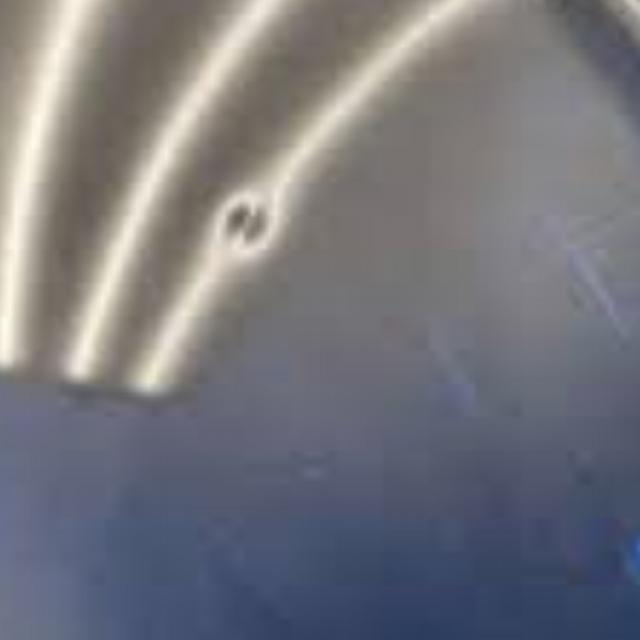dents: (187, 175, 346, 318)
